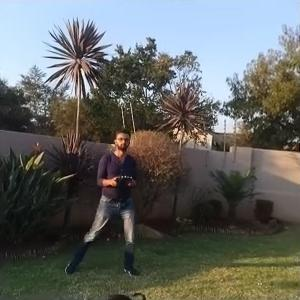follow: (59, 120, 144, 280)
